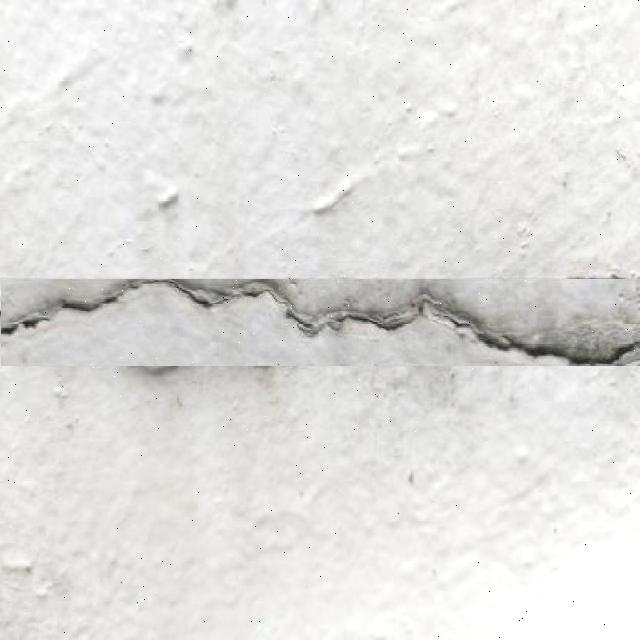crack: (0, 275, 639, 368)
